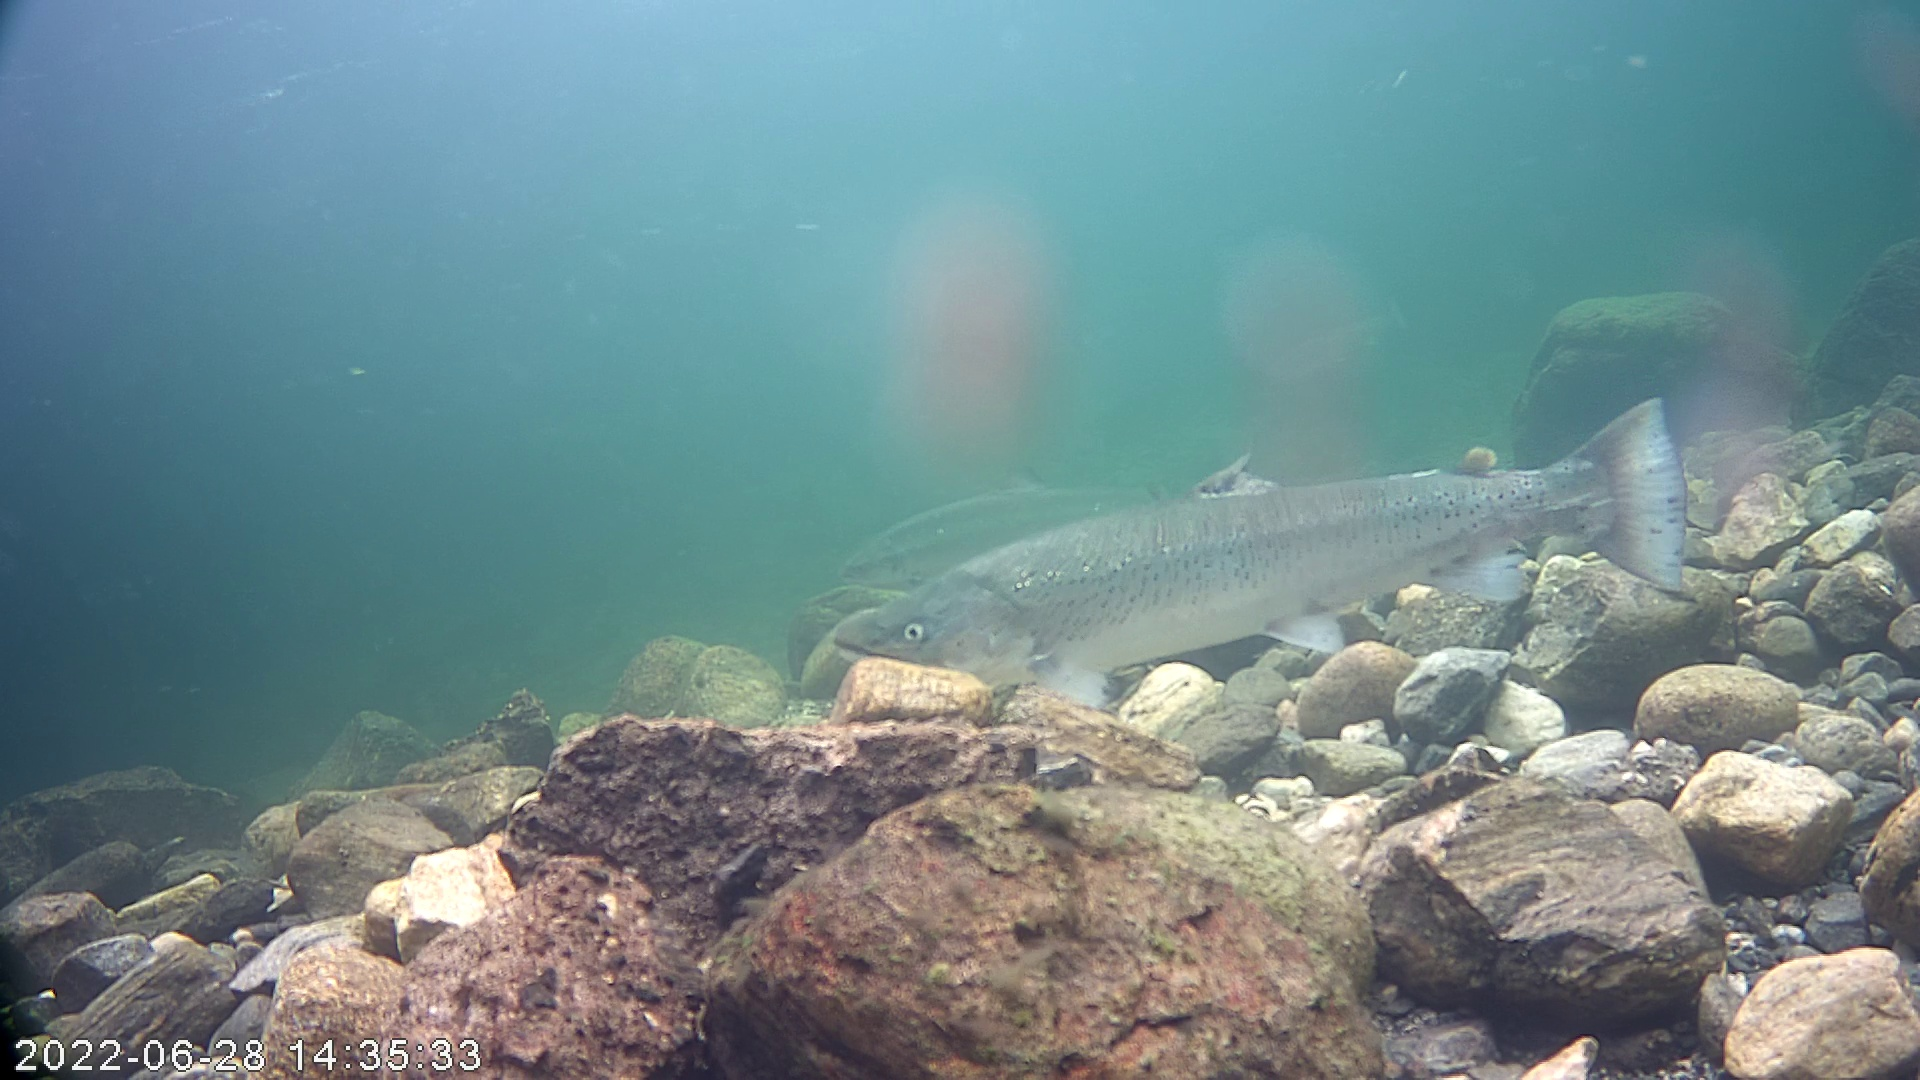salmon: (812, 291, 1725, 717)
